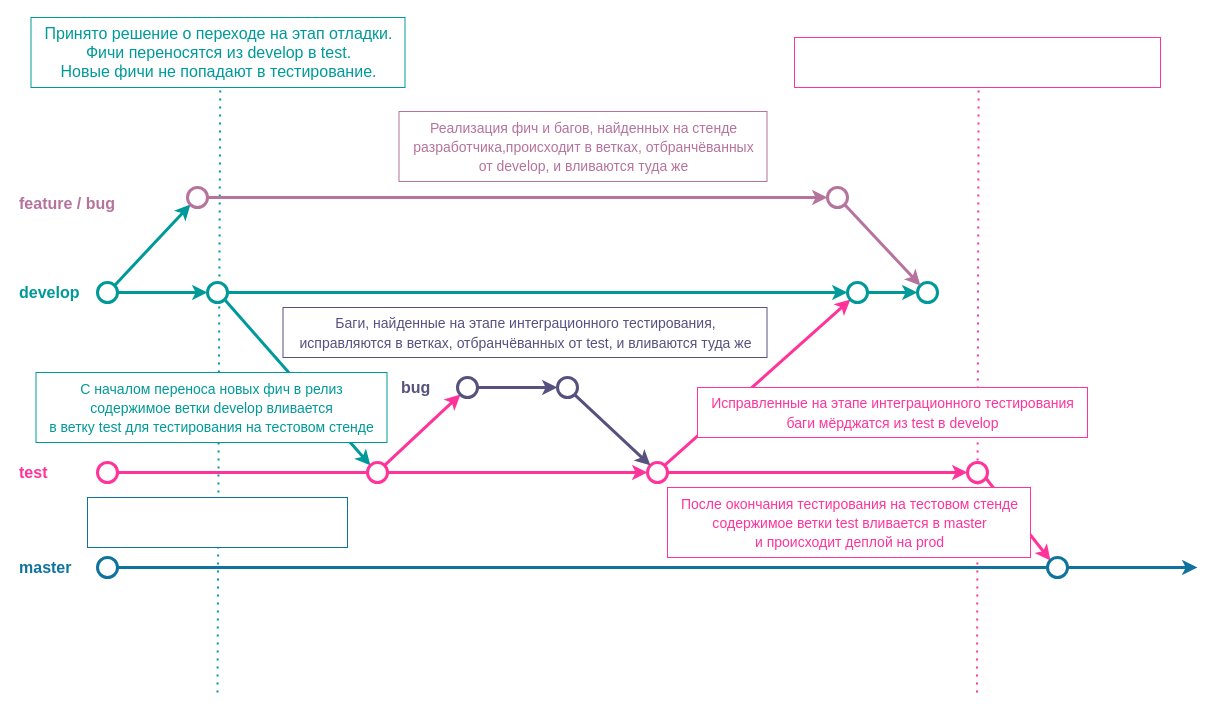
The diagram is 1224 pixels wide and 712 high, and some of its shapes have lost their labels. Here are the shapes that lost their labels. From the top down, the box of each, then its label:
(794, 36, 1160, 88): Тестирование на тестовом стенде закончено. Подготовка релиза и сборка релиза.
(86, 496, 348, 548): Разработка в ветке master не ведётся ни под каким предлогом
